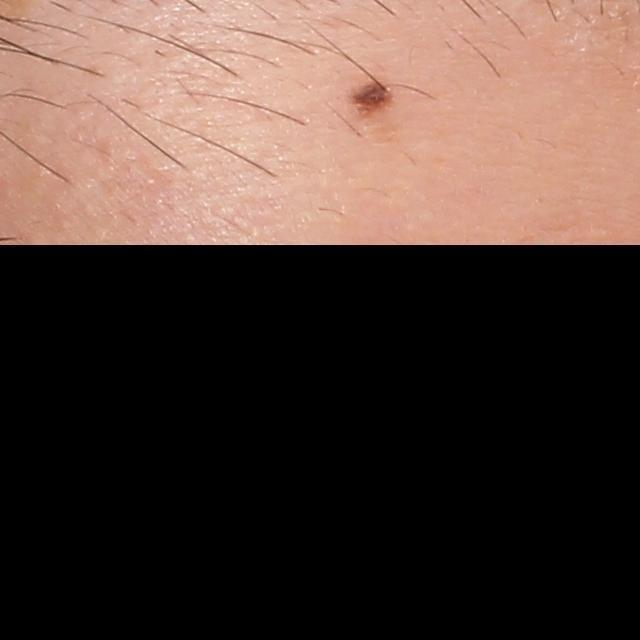nevus: (344, 81, 395, 117)
